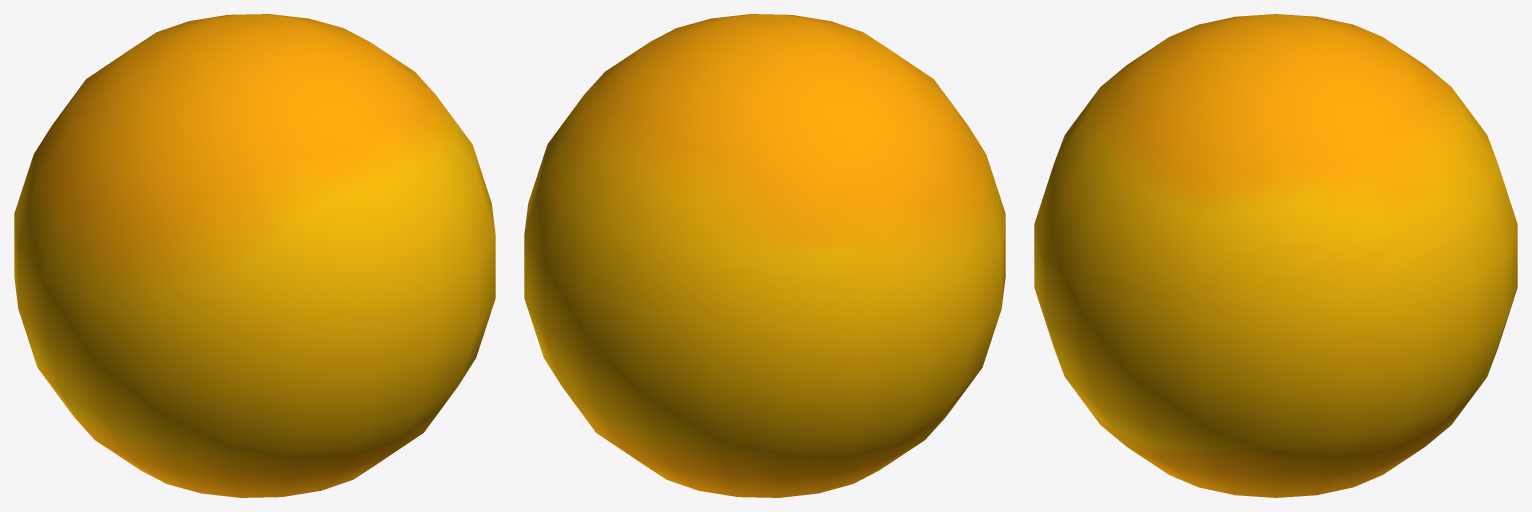
Rendered from sun.glb.
3 views of the same model, side by side, from view 1: azimuth 30°, elevation 25°; view 2: azimuth 150°, elevation 25°; view 3: azimuth 270°, elevation 25° (orthographic).
Visible parts, largest first — view 1: Sphere.001; view 2: Sphere.001; view 3: Sphere.001.
Boxes of the visible parts, x1,y1,x2,y2 form: Sphere.001: (14, 14, 495, 497); Sphere.001: (524, 14, 1005, 497); Sphere.001: (1034, 14, 1517, 497).
Bounding box in the file's own units: 1.98 × 2 × 1.98.
1 material, 1 textured.
